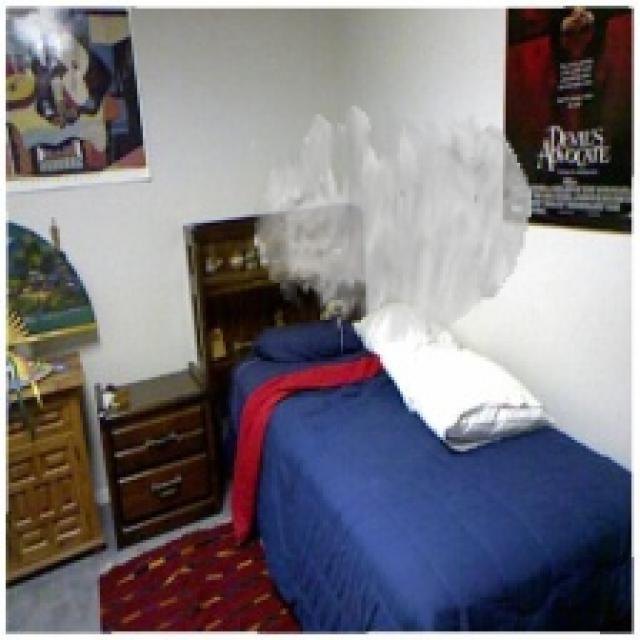Smoke: (254, 106, 532, 343)
